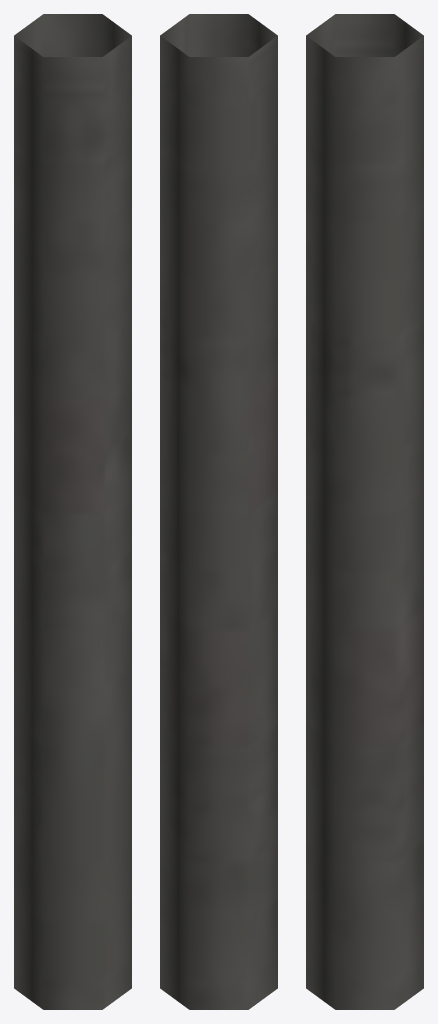
Rendered from cable_10cm.gltf.
The picture shows the model from 3 angles, left to right: view 1: azimuth 90°, elevation 25°; view 2: azimuth 210°, elevation 25°; view 3: azimuth 270°, elevation 25°; orthographic projection.
Visible parts, largest first — view 1: cable_10cm; view 2: cable_10cm; view 3: cable_10cm.
Part boxes in pixels (box(x1,y1,x2,y2)): cable_10cm: box(14, 14, 131, 1009); cable_10cm: box(160, 14, 277, 1009); cable_10cm: box(306, 14, 423, 1009).
Bounding box in the file's own units: 0.00971 × 0.1 × 0.0112.
1 material, 1 textured.
